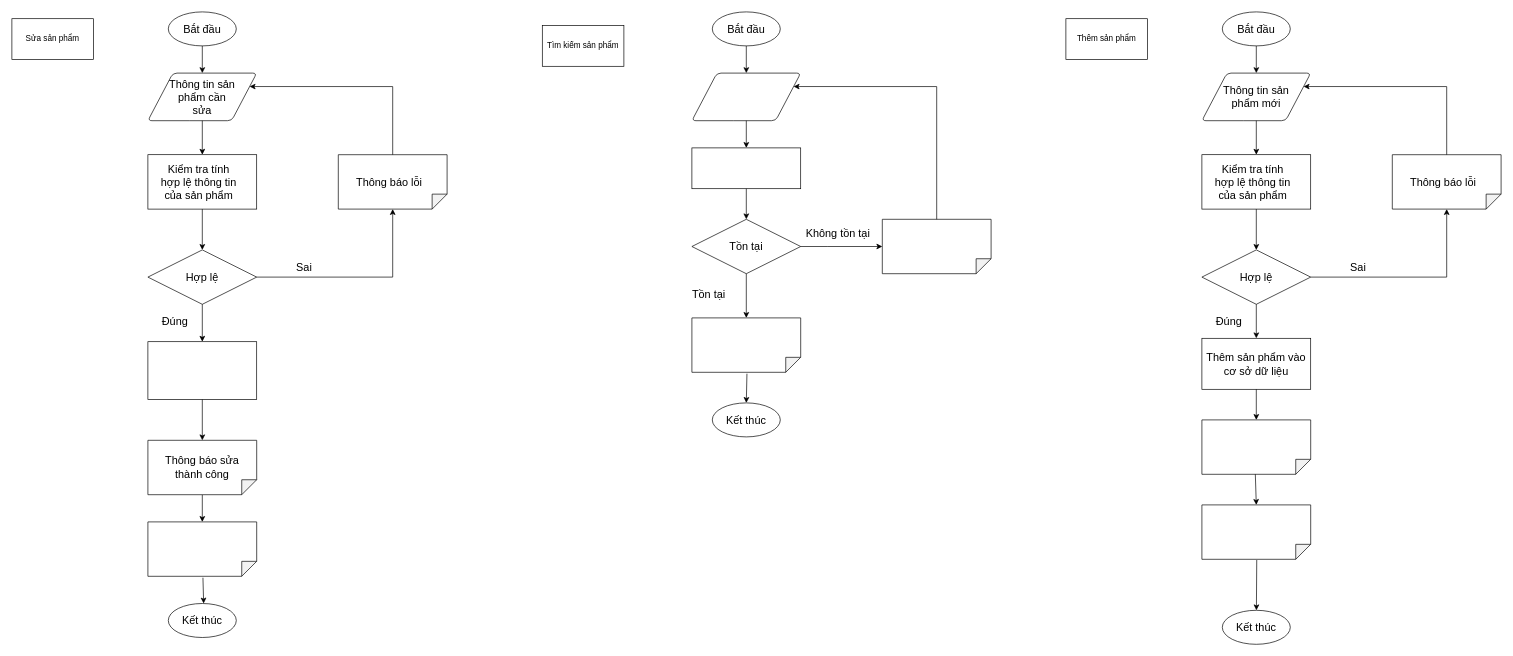
This 1513x656 diagram has some shape labels left out. Each missing label, with the box of its shape:
Cập nhật thông tin sản phẩm: (147, 341, 257, 400)
Danh mục hiển thị sản phẩm: (1201, 504, 1311, 559)
Hiển thị sản phẩm tìm được: (691, 317, 801, 372)
Hiển thị thông tin mới của sản phẩm: (147, 521, 257, 576)
Thông báo không tìm thấy: (882, 219, 991, 274)
Thông báo thêm thành công: (1201, 419, 1311, 474)
Tên, mã hoặc thể loại của sản phẩm: (691, 72, 801, 121)
Tìm kiếm trong cơ sở dữ liệu: (691, 147, 801, 189)
